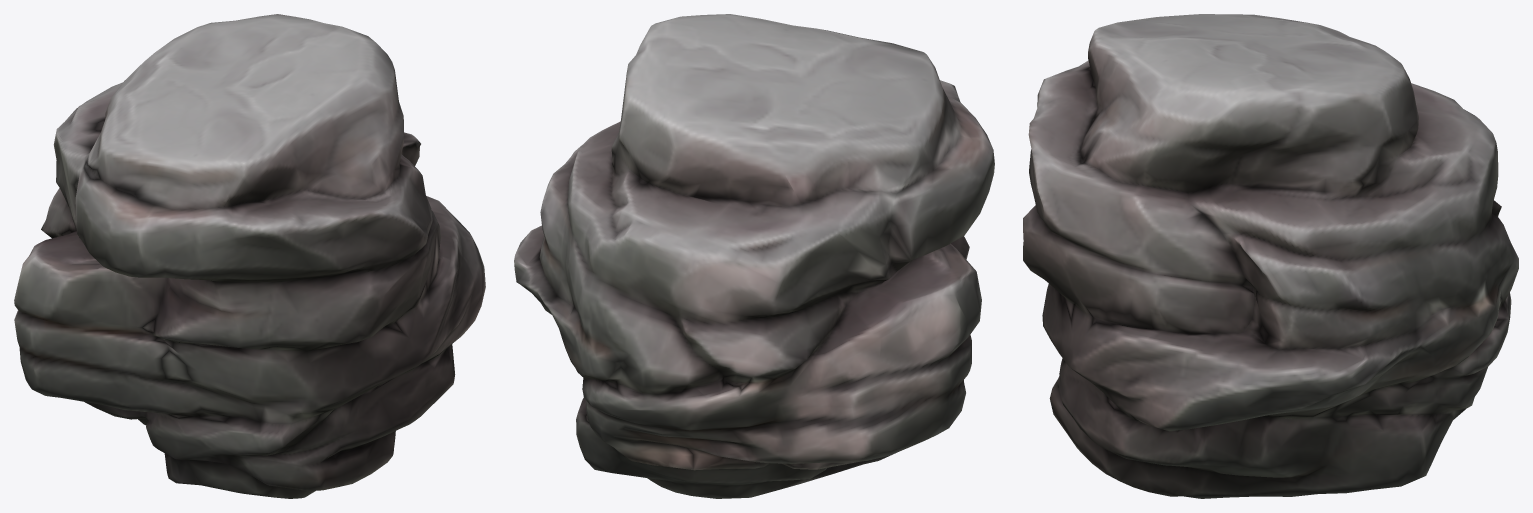
The model's file is o3_roccia_01.glb.
3 renders of one model, left to right at view 1: azimuth 30°, elevation 25°; view 2: azimuth 150°, elevation 25°; view 3: azimuth 270°, elevation 25°, orthographic. The views are drawn at different scales.
Visible parts, largest first — view 1: sb_modello; view 2: sb_modello; view 3: sb_modello.
Boxes of the visible parts, x1,y1,x2,y2 form: sb_modello: [14, 14, 485, 498]; sb_modello: [514, 14, 994, 498]; sb_modello: [1023, 14, 1518, 498].
Bounding box in the file's own units: 4.26 × 3.77 × 3.99.
1 material, 1 textured.
